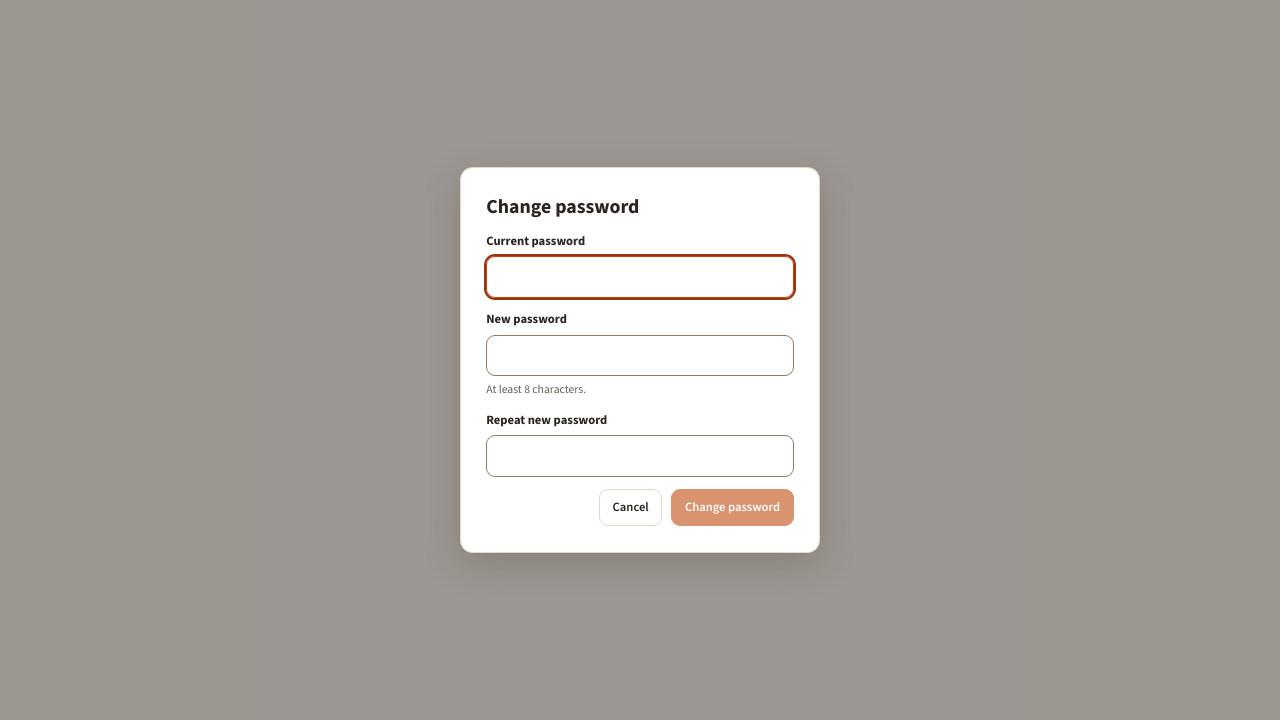
Test: ChangePasswordDialog › sends both passwords and confirms
Type "old-password" into the password field labelled "Current password" at (640, 277), box [486,256,794,298]
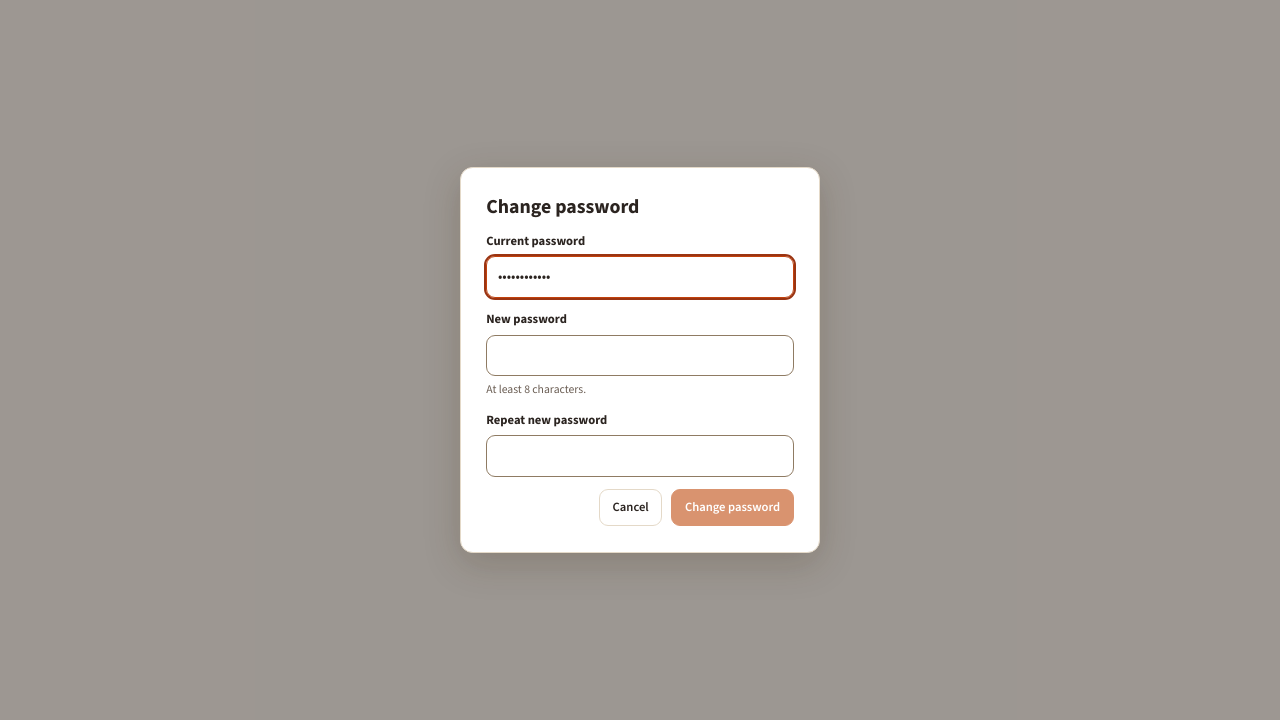
Type "new-password" into the password field labelled "New password" at (640, 356), box [486,335,794,376]
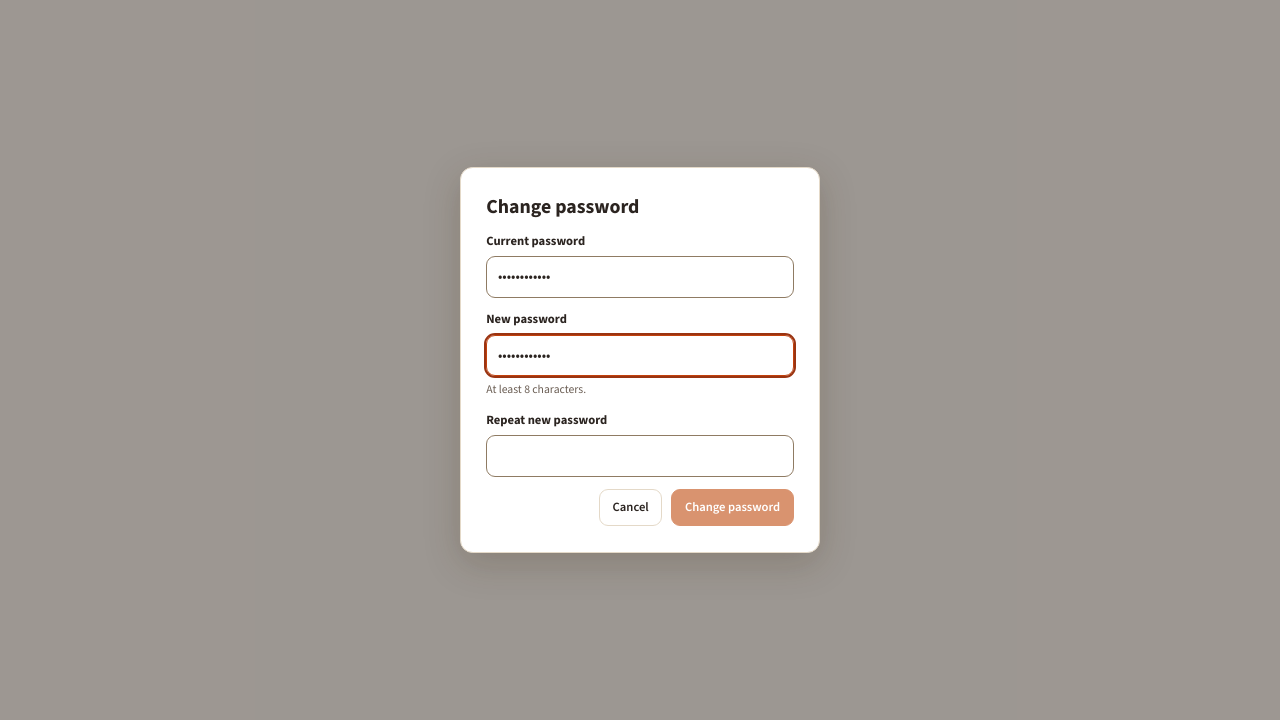
Type "new-password" into the password field labelled "Repeat new password" at (640, 456), box [486,435,794,477]
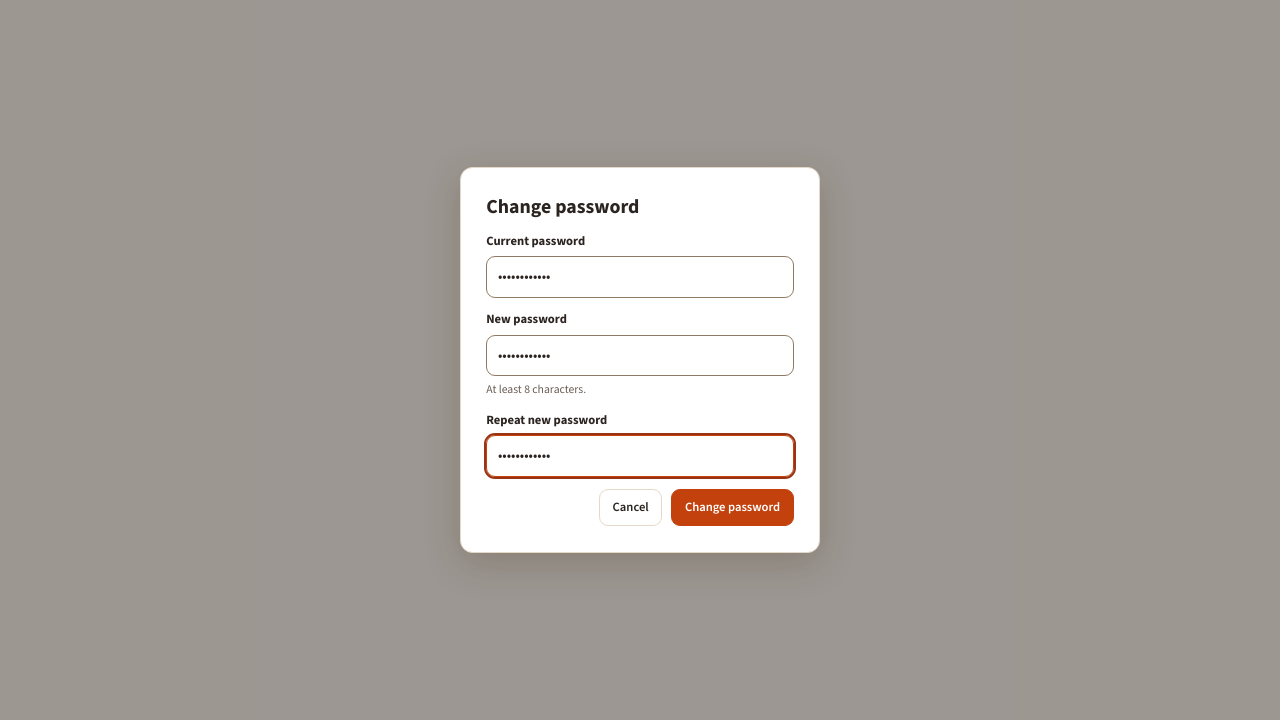
Click the button "Change password" at (733, 508), box [671,489,794,526]
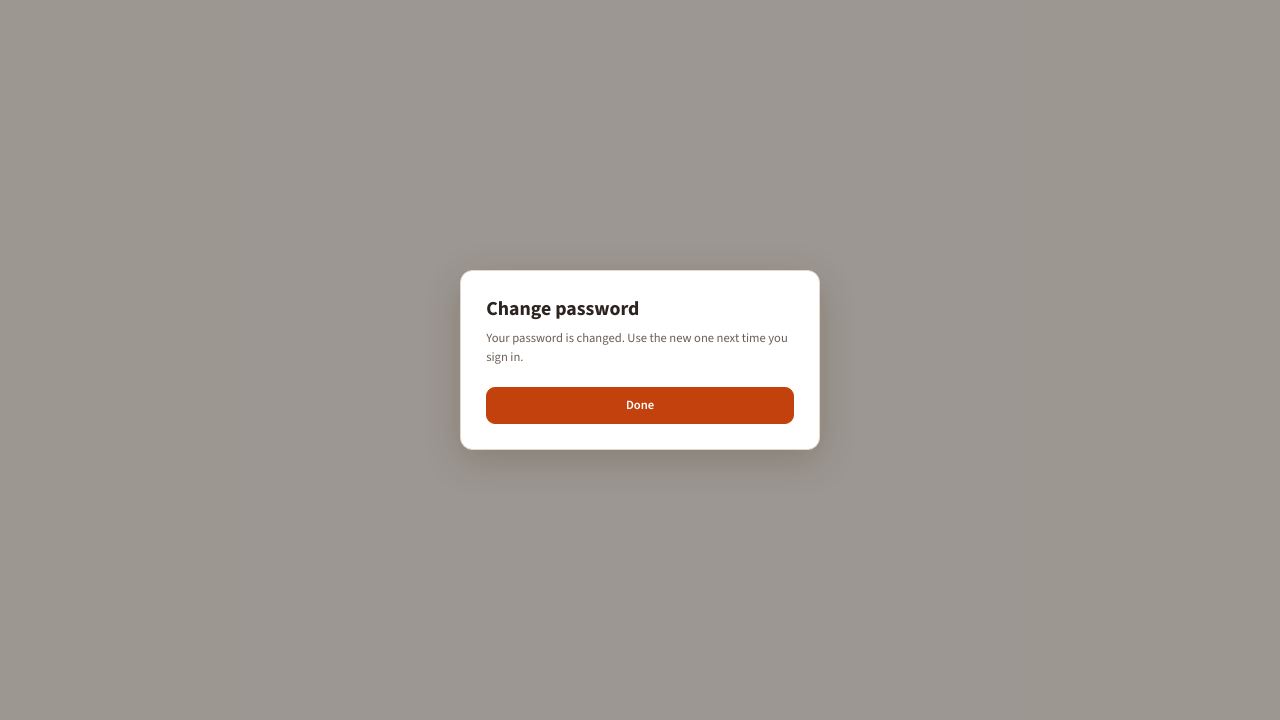
Expected: the text "Your password is changed. Use the new one next time you sign in." is shown, [486,329,794,367]
